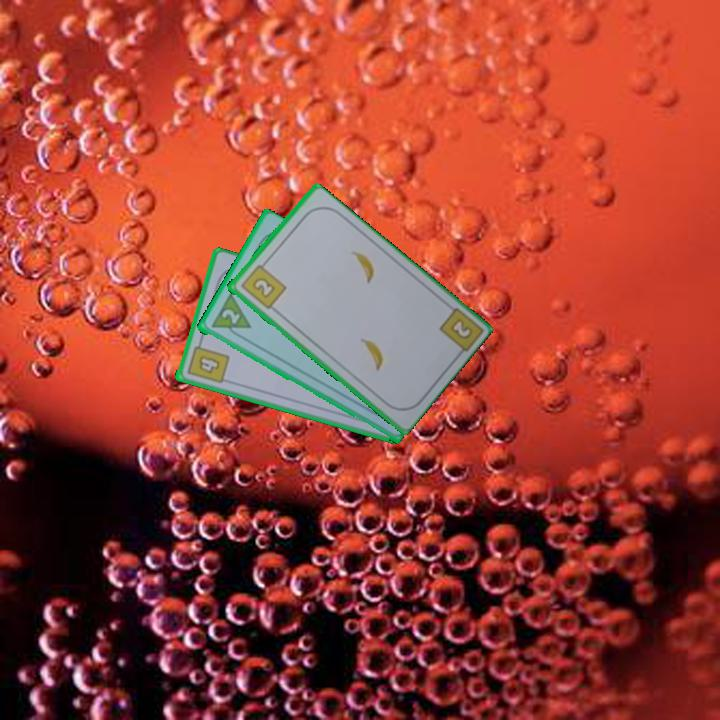2b: (237, 258, 289, 312), (449, 317, 473, 340)
2p: (218, 305, 243, 327)
4b: (183, 336, 231, 386)
